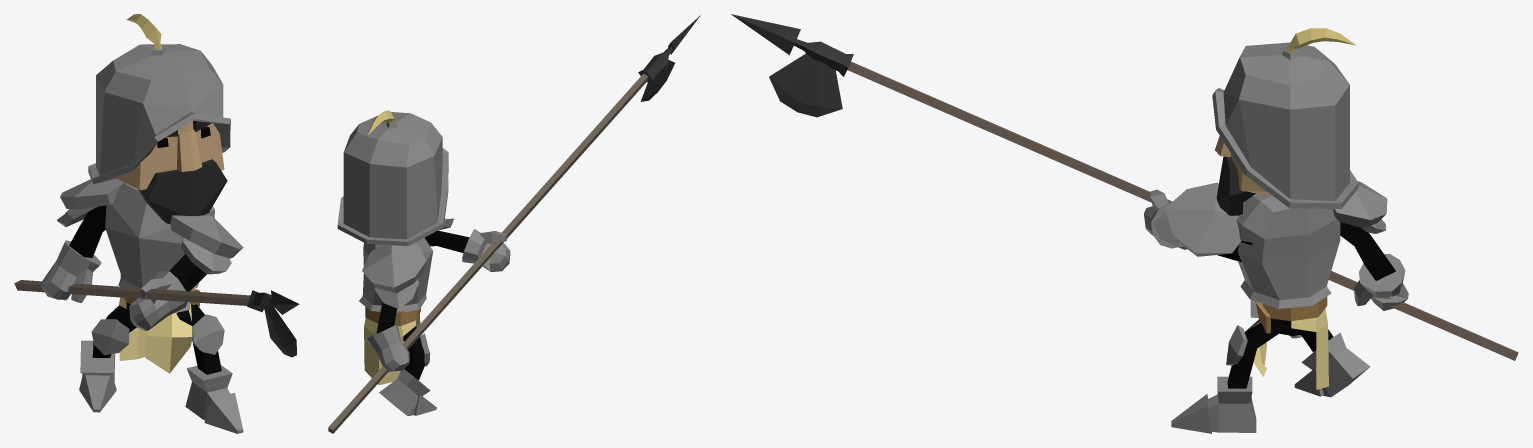
3 renders of one model, left to right at view 1: azimuth 30°, elevation 25°; view 2: azimuth 150°, elevation 25°; view 3: azimuth 270°, elevation 25°, orthographic. The views are drawn at different scales.
Visible parts, largest first — view 1: Soldier_29; view 2: Soldier_29; view 3: Soldier_29.
Boxes of the visible parts, x1,y1,x2,y2 form: Soldier_29: [14, 14, 299, 433]; Soldier_29: [328, 15, 700, 433]; Soldier_29: [731, 14, 1518, 433].
Bounding box in the file's own units: 0.9269 × 1.71 × 3.14.
Materials: 9 (1 with a texture image).
